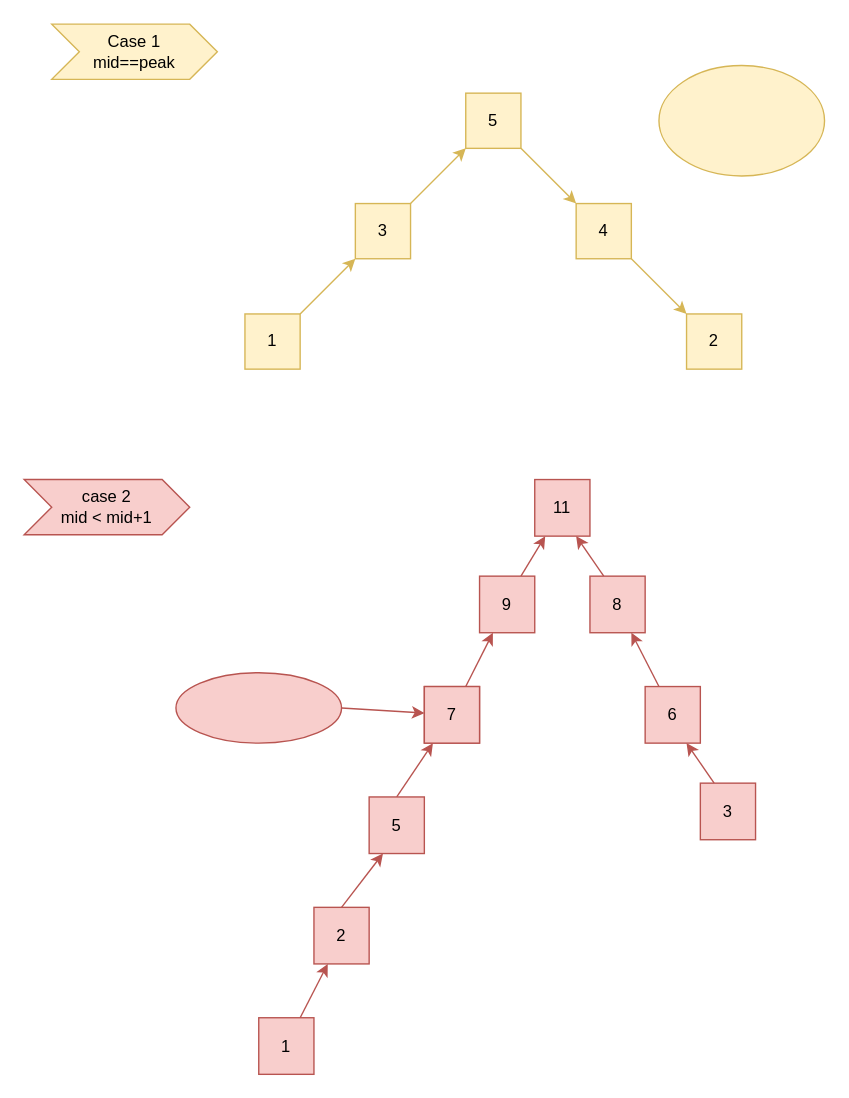
The diagram is 849 pixels wide and 1098 high, and some of its shapes have lost their labels. The centre of each missing label's shape, as x and y in pixels:
"mid < mid+1" goes at pixel 258 707.
"mid+1 < mid && mid > mid + 1" goes at pixel 741 120.
